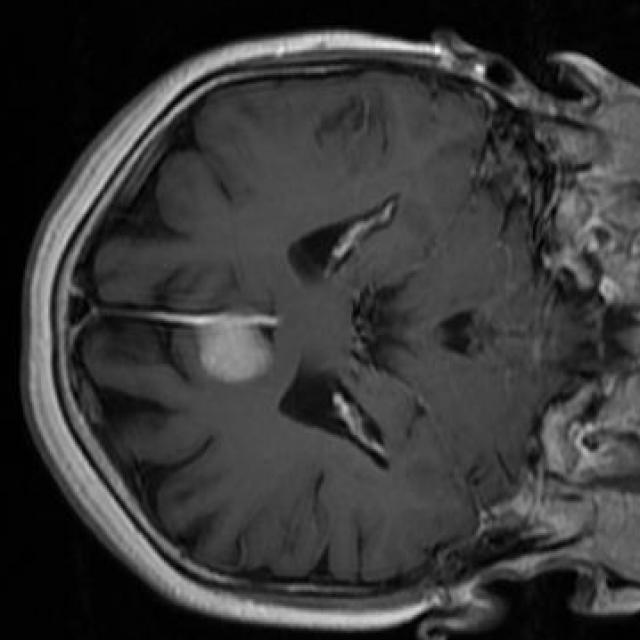meningioma: (198, 317, 271, 383)
